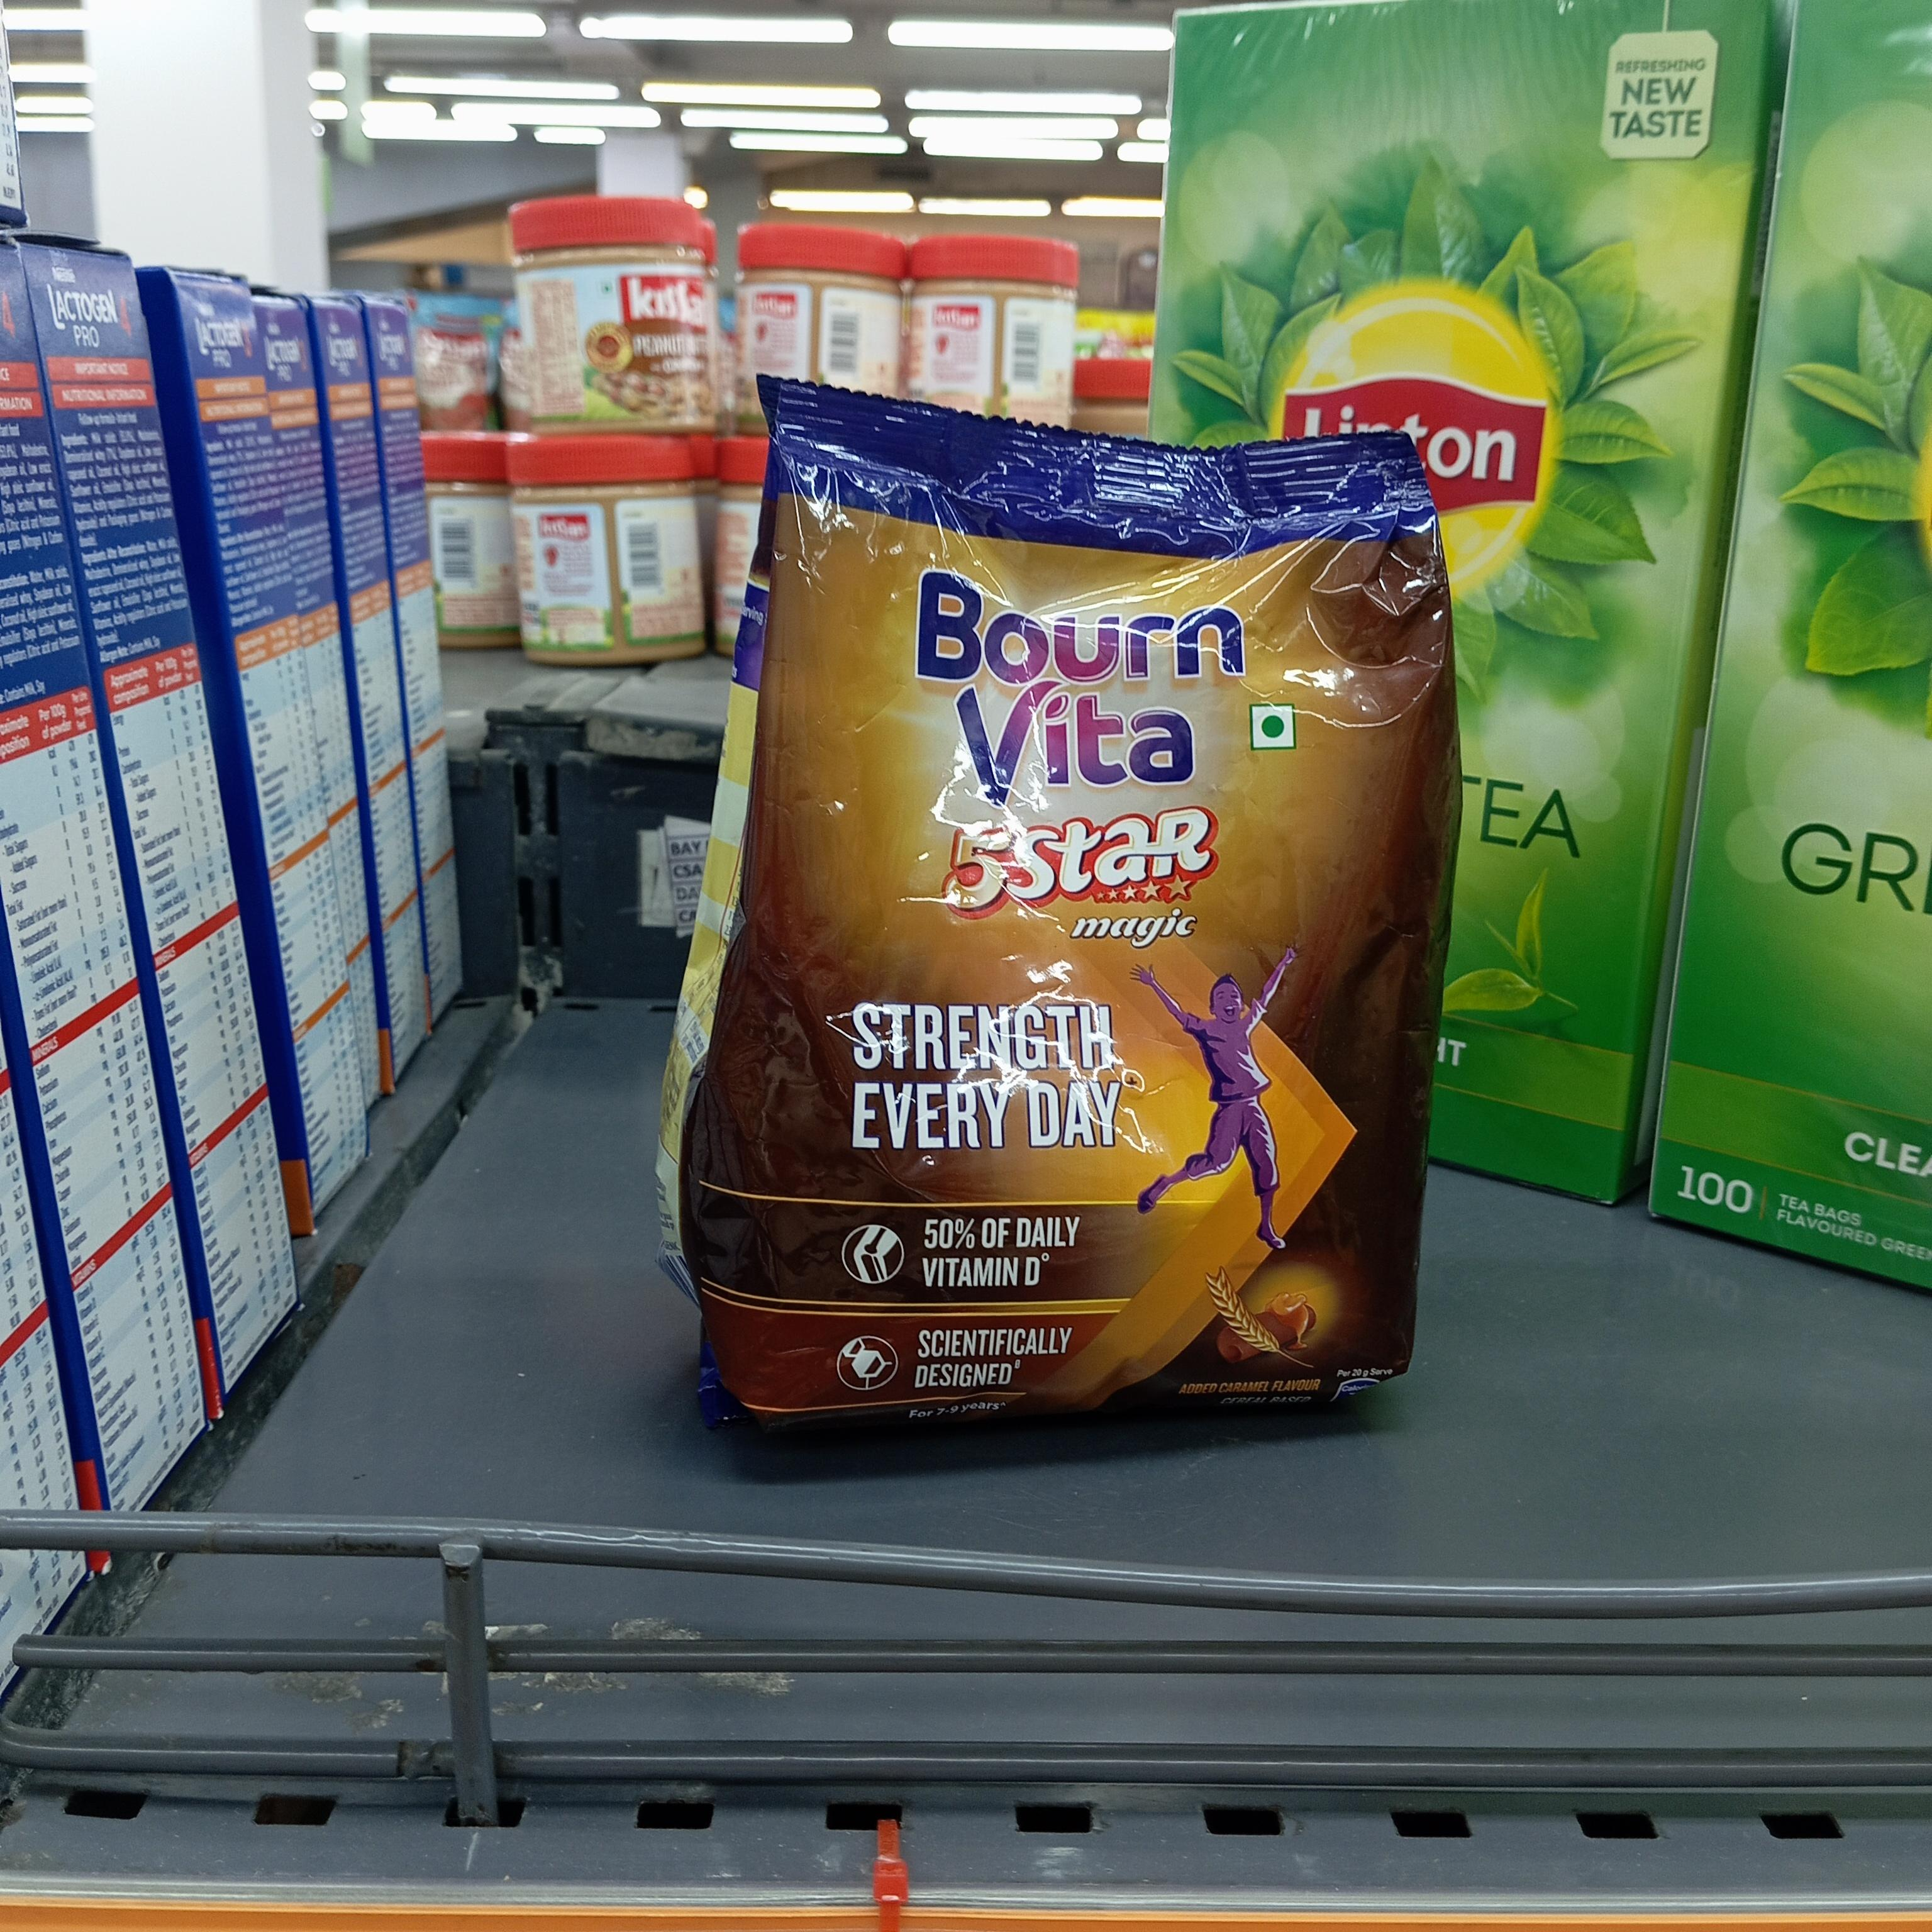BOURN_VITA_FIVE_STAR_MAGIC_500_G_POUCH: (750, 391, 1424, 1417)
